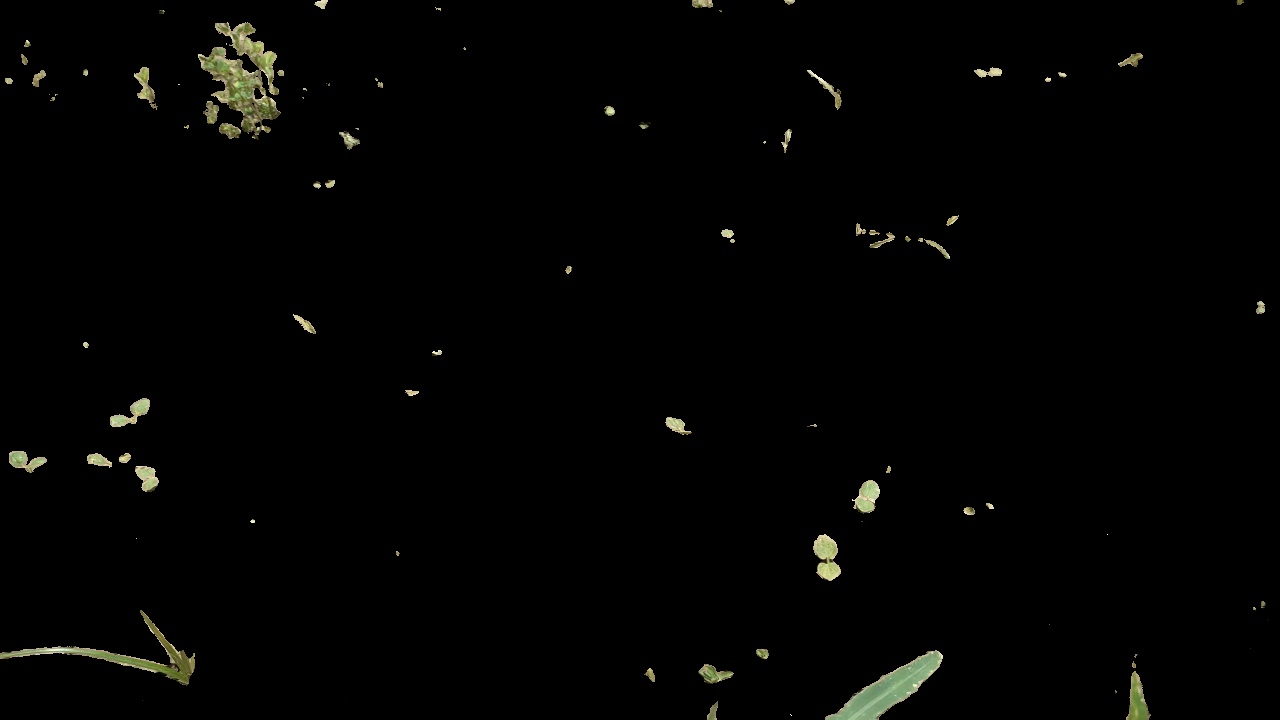crop: (658, 609, 973, 720)
weed: (2, 582, 203, 687), (163, 14, 293, 151), (803, 528, 849, 579), (843, 478, 881, 522), (111, 395, 152, 429), (126, 67, 158, 109), (696, 652, 738, 682), (1, 447, 51, 471), (659, 411, 701, 438), (82, 447, 133, 469), (132, 465, 173, 492), (972, 64, 1011, 87), (299, 178, 345, 189)
